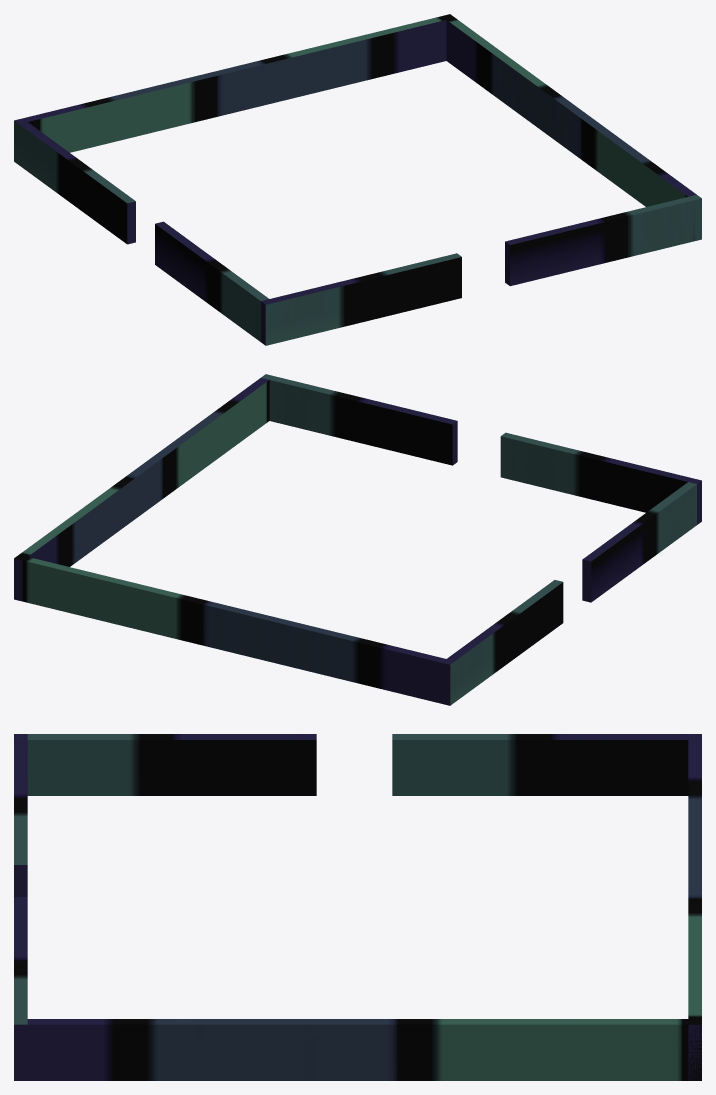
The model's file is roomWalls2.fbx.
3 renders of one model, top to bottom at view 1: azimuth 30°, elevation 25°; view 2: azimuth 150°, elevation 25°; view 3: azimuth 270°, elevation 25°, orthographic. The views are drawn at different scales.
Visible parts, largest first — view 1: Plane.001; view 2: Plane.001; view 3: Plane.001.
Boxes of the visible parts, bbox=[...] form: Plane.001: bbox=[14, 14, 701, 345]; Plane.001: bbox=[14, 374, 701, 705]; Plane.001: bbox=[14, 734, 701, 1080].
Bounding box in the file's own units: 10000 × 900 × 10000.
